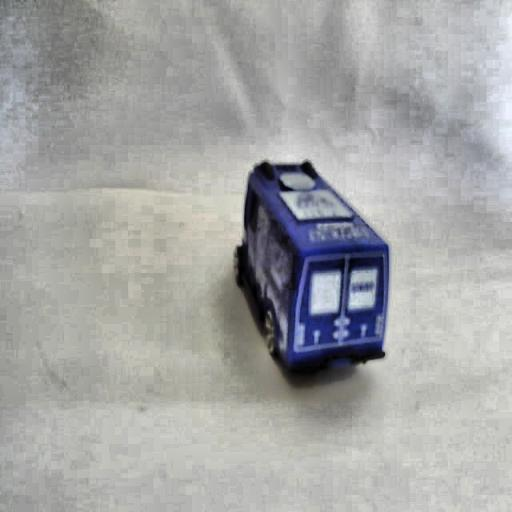police car: (228, 158, 392, 383)
